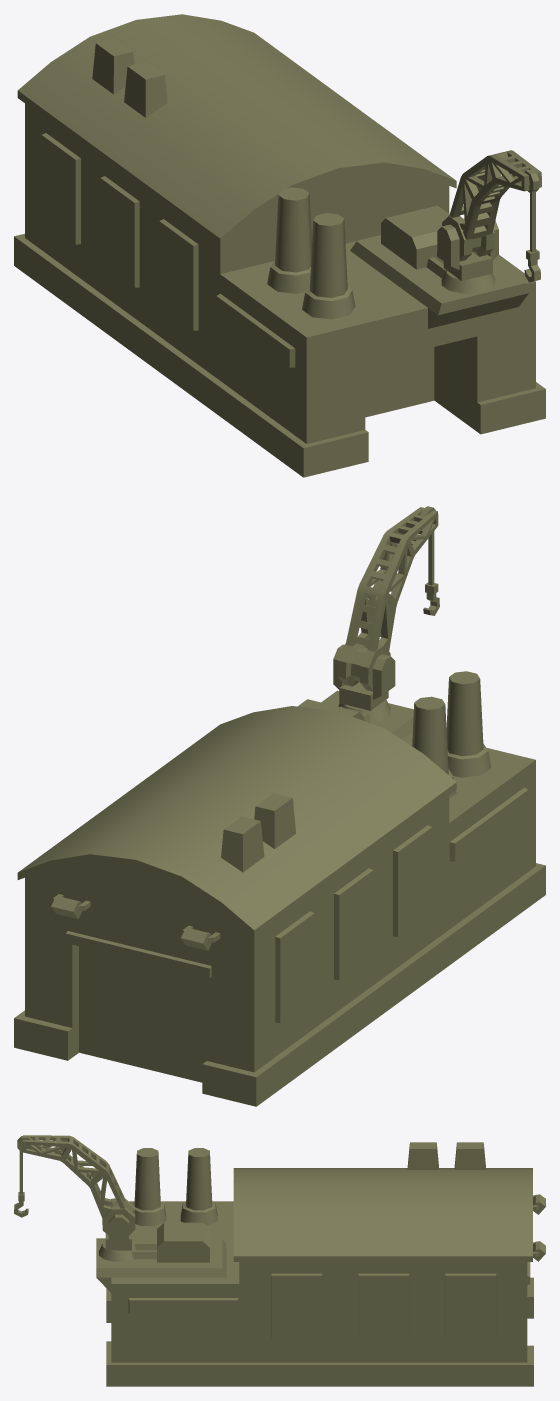
File: Props_B_Dock.fbx
The picture shows the model from 3 angles, top to bottom: view 1: azimuth 30°, elevation 25°; view 2: azimuth 150°, elevation 25°; view 3: azimuth 270°, elevation 25°; orthographic projection. The views are drawn at different scales.
Parts seen in each view (by area): view 1: Props_B_Dock; view 2: Props_B_Dock; view 3: Props_B_Dock.
Part boxes in pixels (x1,y1,x2,y2): Props_B_Dock: (14,14,545,477); Props_B_Dock: (14,506,545,1106); Props_B_Dock: (14,1135,545,1386).
Bounding box in the file's own units: 30.52 × 36.59 × 78.49.
